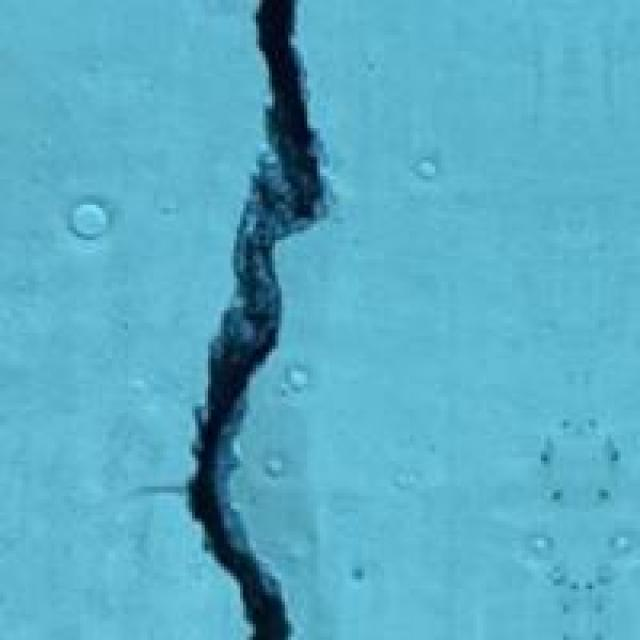crack: (118, 0, 352, 637)
